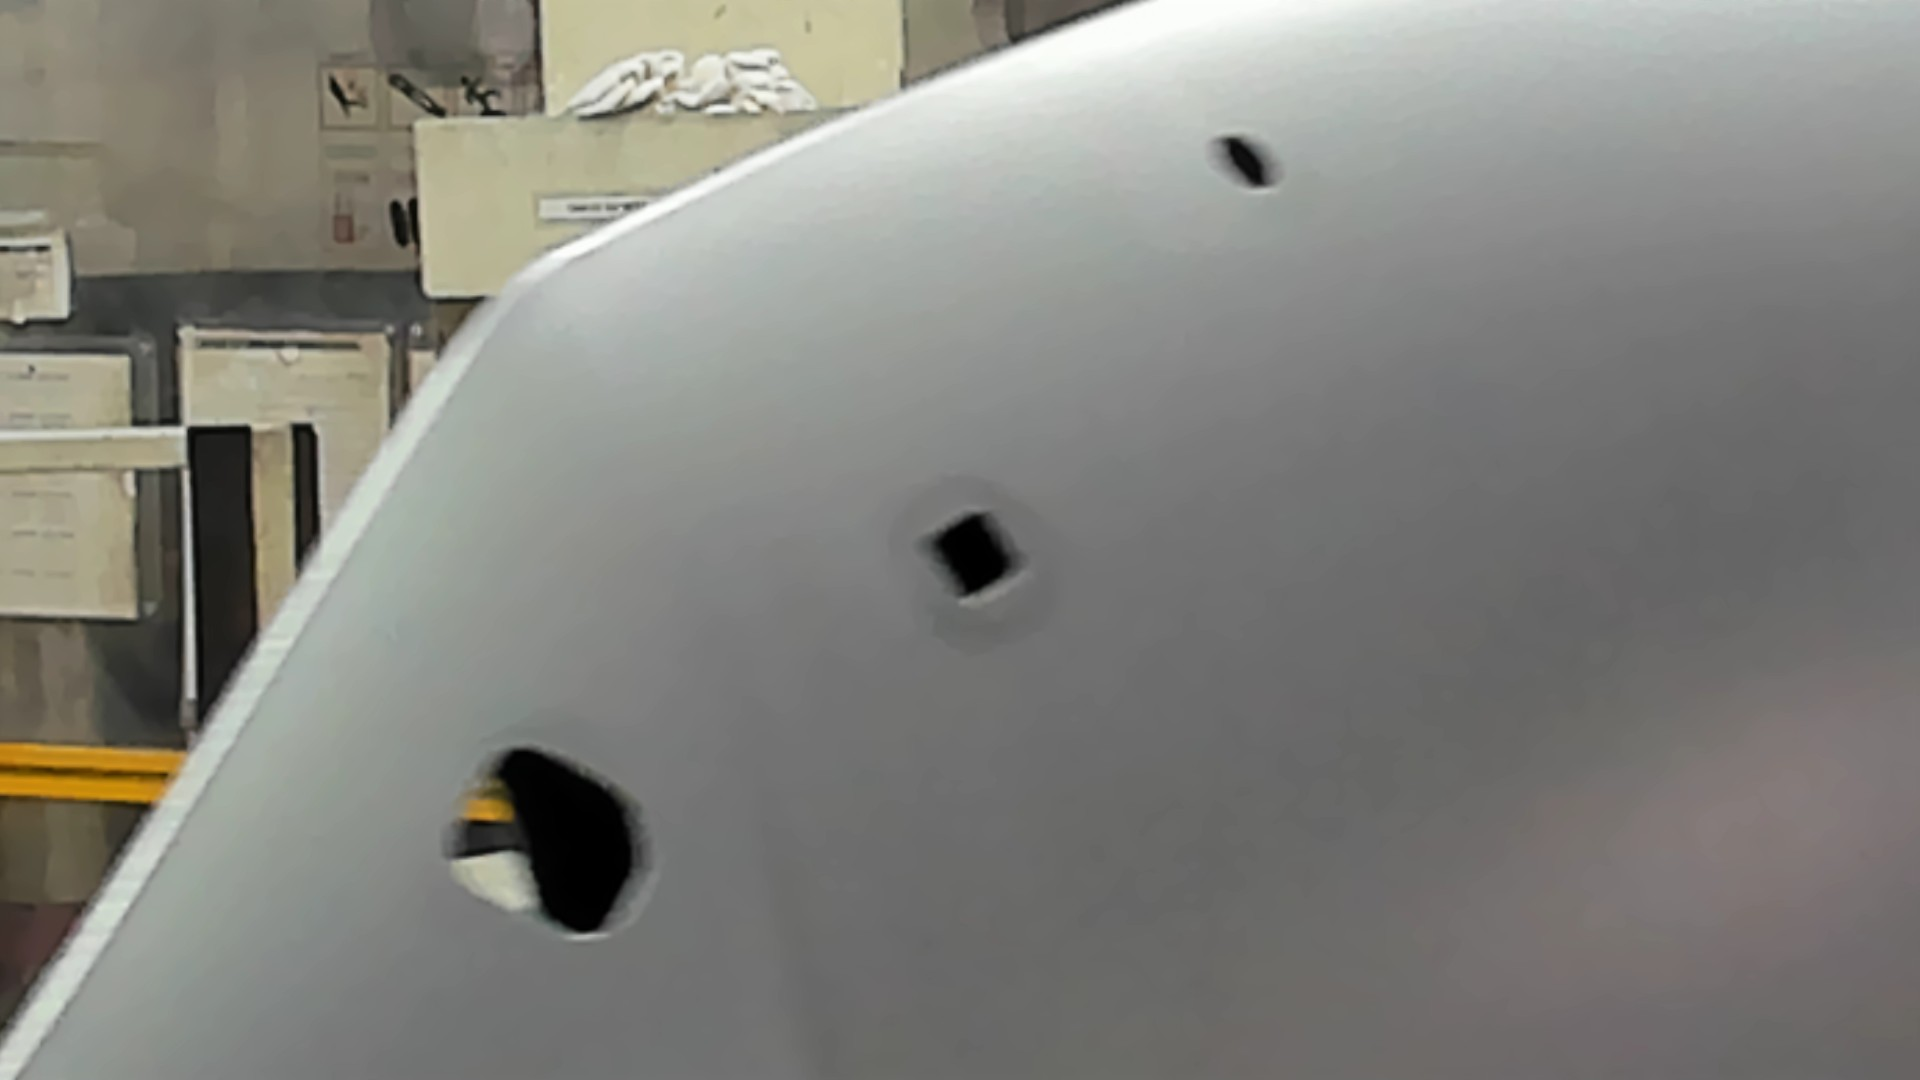chico: (1201, 127, 1286, 199)
grande: (439, 738, 663, 945)
mediano: (910, 498, 1036, 617)
